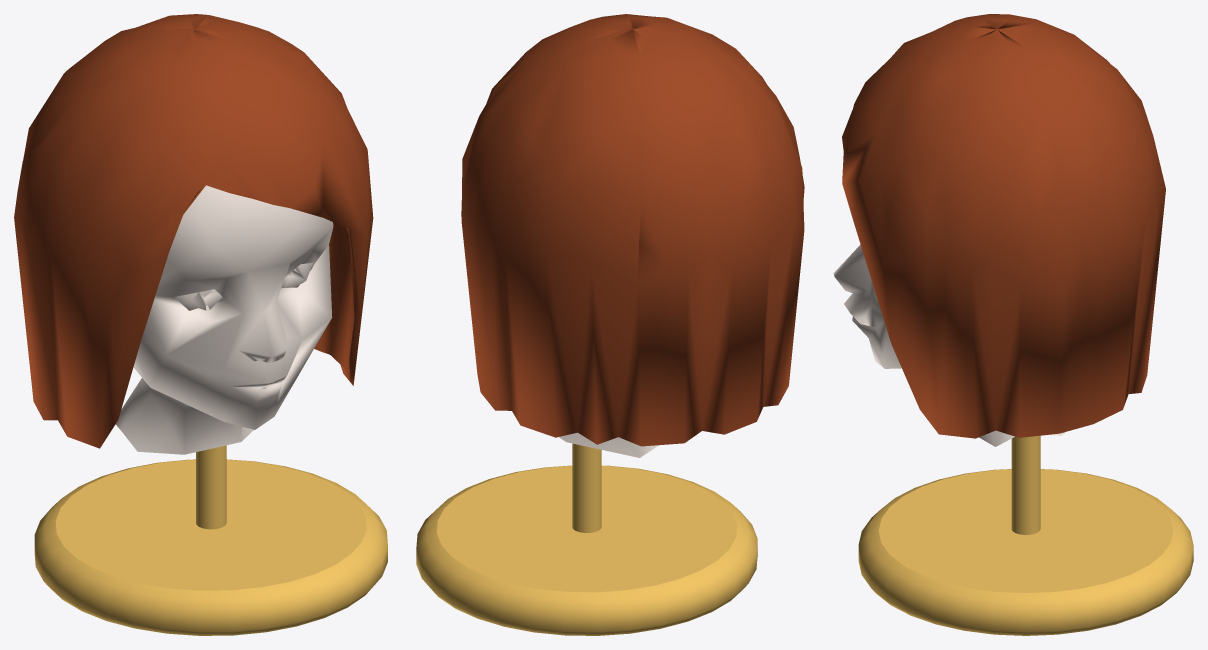
Rendered from rain.hair.chestnut-bob.lod1.glb.
3 views of the same model, side by side, from view 1: azimuth 30°, elevation 25°; view 2: azimuth 150°, elevation 25°; view 3: azimuth 270°, elevation 25° (orthographic). The views are drawn at different scales.
Parts seen in each view (by area): view 1: Fit.Hair.chestnut-bob.Shell, stand_base, GEO-rain-head, stand_stem, GEO-rain-eyes; view 2: Fit.Hair.chestnut-bob.Shell, stand_base, stand_stem, GEO-rain-head; view 3: Fit.Hair.chestnut-bob.Shell, stand_base, GEO-rain-head, stand_stem.
Boxes of the visible parts, <box> form: Fit.Hair.chestnut-bob.Shell: <box>14,14,373,448</box>; stand_base: <box>34,459,387,635</box>; GEO-rain-head: <box>115,185,333,454</box>; stand_stem: <box>196,445,226,529</box>; GEO-rain-eyes: <box>174,262,312,310</box>; Fit.Hair.chestnut-bob.Shell: <box>461,14,804,446</box>; stand_base: <box>416,465,757,635</box>; stand_stem: <box>572,443,601,532</box>; GEO-rain-head: <box>559,432,658,457</box>; Fit.Hair.chestnut-bob.Shell: <box>842,14,1165,438</box>; stand_base: <box>858,469,1193,635</box>; GEO-rain-head: <box>833,244,1065,446</box>; stand_stem: <box>1011,435,1040,534</box>.
Size of the model in its own units: 0.4802 by 0.7501 by 0.4628.
